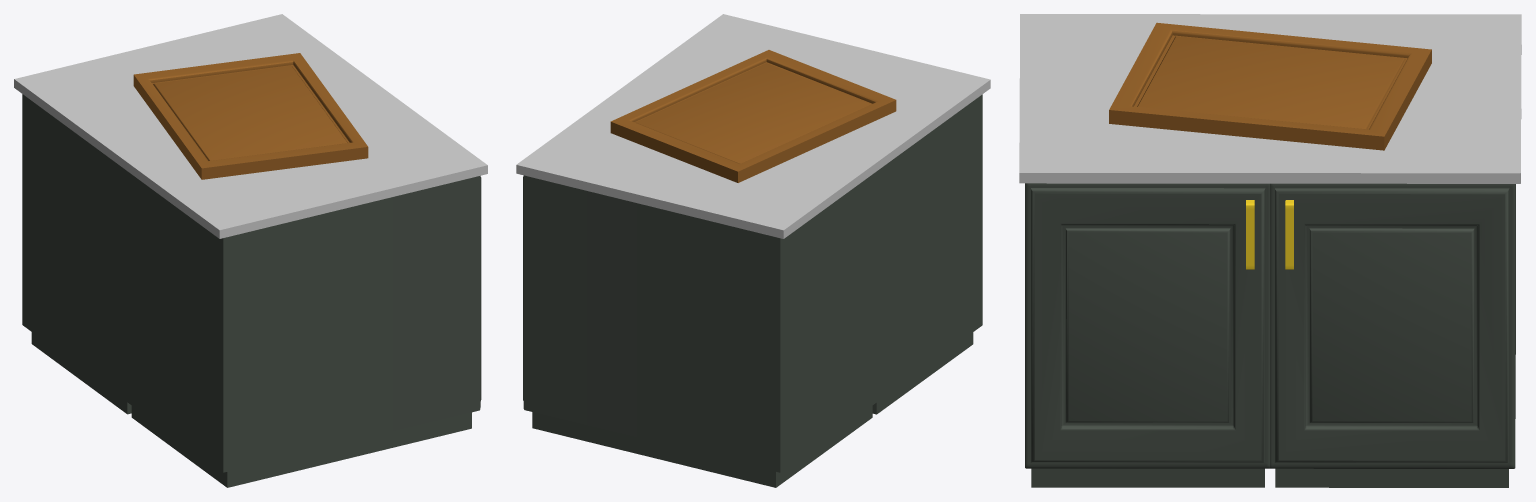
File: EncimeraCortar.fbx
The picture shows the model from 3 angles, left to right: view 1: azimuth 30°, elevation 25°; view 2: azimuth 150°, elevation 25°; view 3: azimuth 270°, elevation 25°; orthographic projection. The views are drawn at different scales.
Visible parts, largest first — view 1: DoubleDoorCountertop; view 2: DoubleDoorCountertop; view 3: DoubleDoorCountertop.
Boxes of the visible parts, x1,y1,x2,y2 form: DoubleDoorCountertop: (14, 14, 487, 487); DoubleDoorCountertop: (516, 14, 990, 487); DoubleDoorCountertop: (1019, 14, 1521, 487).
Bounding box in the file's own units: 109 × 104 × 141.
